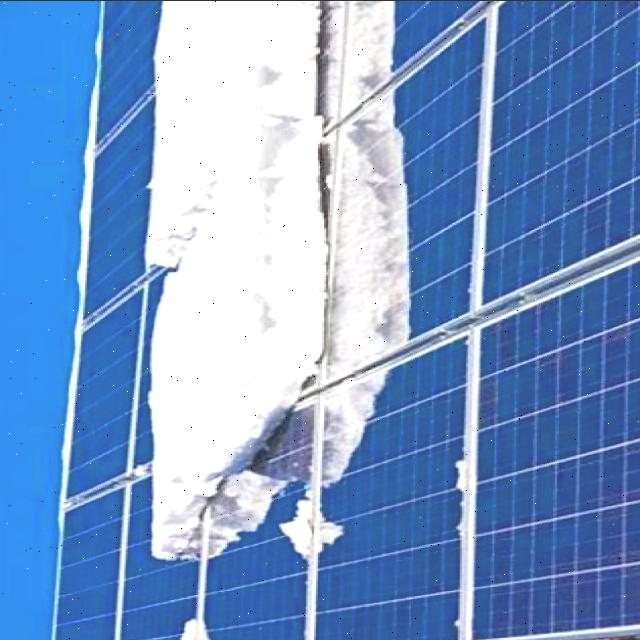Anomaly Solar Panel: (51, 0, 640, 640)
Snow: (141, 0, 332, 559), (276, 481, 315, 560), (179, 619, 194, 640)
